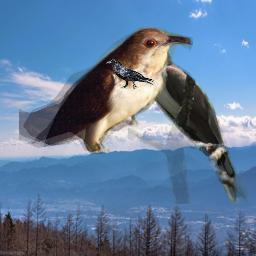Crow: (106, 59, 156, 89)
Cuckoo: (19, 27, 193, 154), (128, 43, 250, 204)
